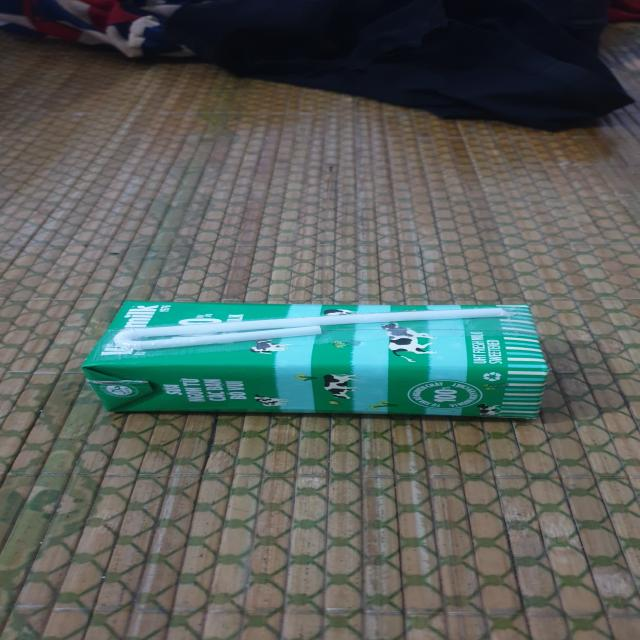Vina: (80, 299, 554, 425)
